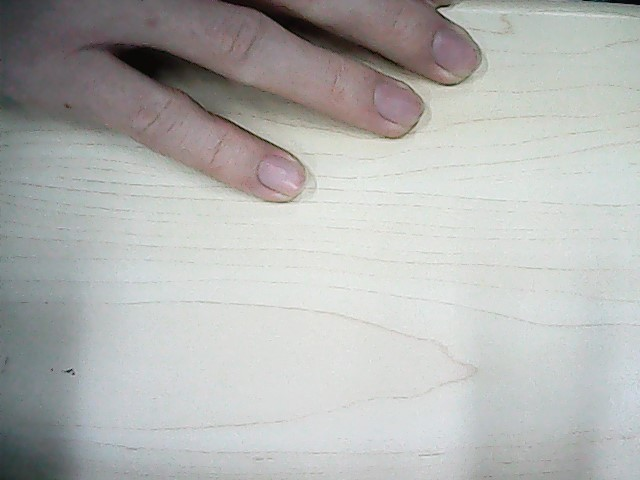nail: (427, 23, 484, 78), (370, 78, 427, 129), (255, 152, 305, 198)
